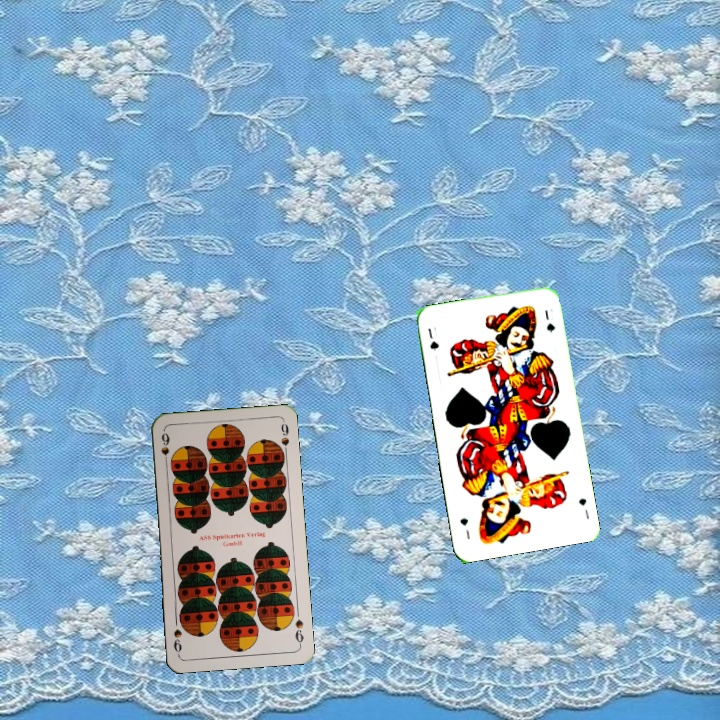GU: (424, 324, 441, 354), (575, 494, 592, 522)
S9: (157, 429, 172, 469), (291, 615, 306, 648)
